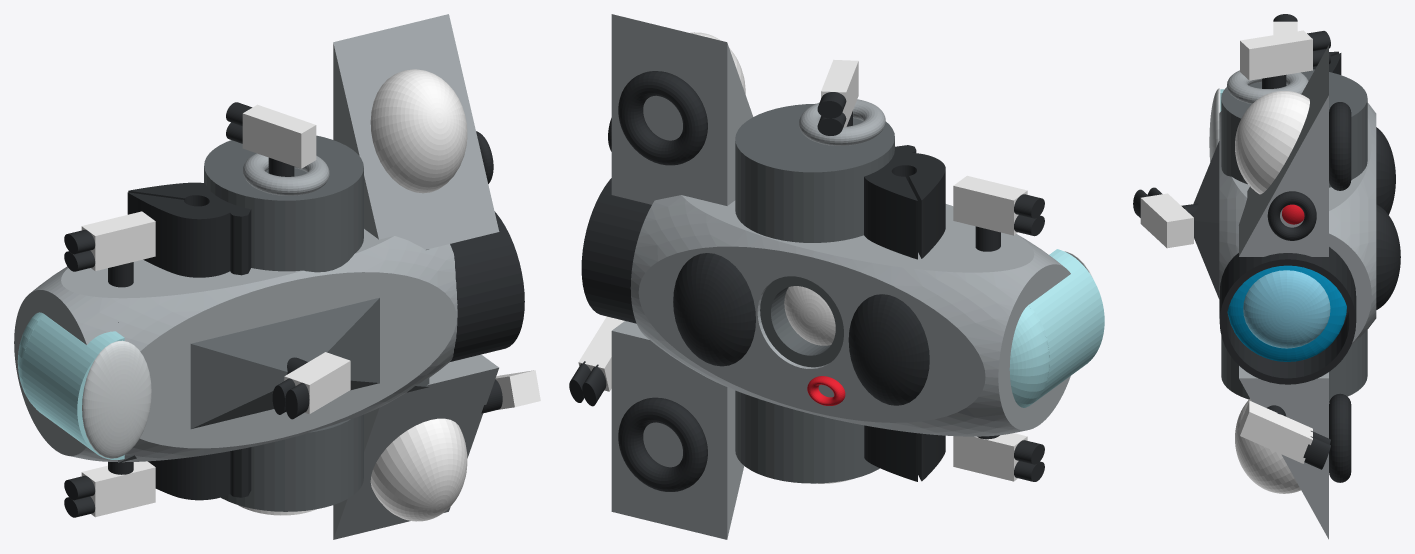
File: tinker.obj
3 renders of one model, left to right at view 1: azimuth 30°, elevation 25°; view 2: azimuth 150°, elevation 25°; view 3: azimuth 270°, elevation 25°, orthographic. The views are drawn at different scales.
Parts seen in each view (by area): view 1: obj_41, obj_1, obj_9, obj_4, obj_14, obj_0, obj_11, obj_5, obj_2, obj_15, obj_6, obj_8 (+8 smaller); view 2: obj_41, obj_1, obj_0, obj_4, obj_5, obj_11, obj_13, obj_12, obj_2, obj_6, obj_40, obj_39 (+11 smaller); view 3: obj_41, obj_1, obj_2, obj_38, obj_14, obj_0, obj_4, obj_3, obj_25, obj_35, obj_9, obj_5 (+12 smaller).
Part boxes in pixels (<box>): obj_41: <box>14,229,457,462</box>; obj_1: <box>333,14,499,249</box>; obj_9: <box>118,249,429,462</box>; obj_4: <box>204,135,363,272</box>; obj_14: <box>370,69,467,193</box>; obj_0: <box>333,354,498,539</box>; obj_11: <box>127,182,251,277</box>; obj_5: <box>221,414,363,511</box>; obj_2: <box>450,211,524,361</box>; obj_15: <box>370,418,467,521</box>; obj_6: <box>22,314,124,459</box>; obj_8: <box>82,340,151,458</box>; obj_41: <box>630,195,1070,436</box>; obj_1: <box>611,14,753,205</box>; obj_0: <box>611,321,744,539</box>; obj_4: <box>735,103,894,242</box>; obj_5: <box>735,390,879,483</box>; obj_11: <box>864,145,945,259</box>; obj_13: <box>673,253,755,366</box>; obj_12: <box>848,294,929,405</box>; obj_2: <box>581,178,651,323</box>; obj_6: <box>1028,249,1104,406</box>; obj_40: <box>618,397,707,491</box>; obj_39: <box>618,71,707,165</box>; obj_41: <box>1219,103,1376,344</box>; obj_1: <box>1239,45,1328,256</box>; obj_2: <box>1219,247,1356,384</box>; obj_38: <box>1243,270,1330,348</box>; obj_14: <box>1235,91,1309,194</box>; obj_0: <box>1239,366,1328,539</box>; obj_4: <box>1221,69,1367,187</box>; obj_3: <box>1227,265,1346,361</box>; obj_25: <box>1240,30,1312,80</box>; obj_35: <box>1240,400,1312,463</box>; obj_9: <box>1192,141,1219,298</box>; obj_5: <box>1221,330,1367,402</box>.
Size of the model in its own units: 110 by 110 by 60.
